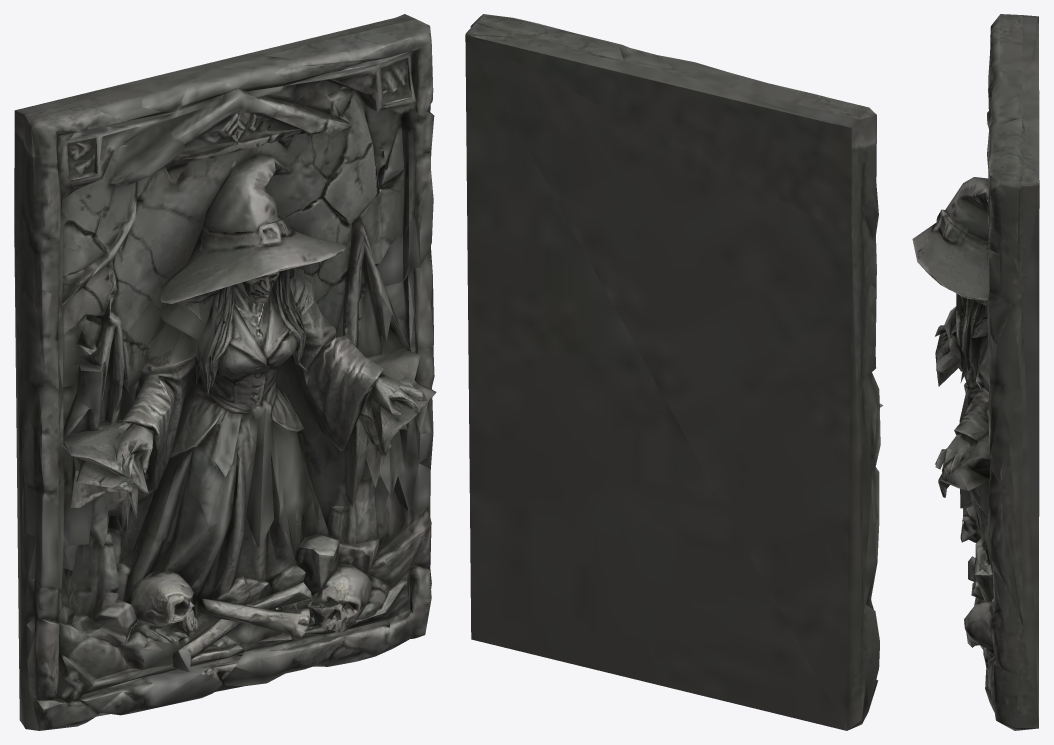
The model's file is obj_deco_evil_witch.glb.
3 views of the same model, side by side, from view 1: azimuth 30°, elevation 25°; view 2: azimuth 150°, elevation 25°; view 3: azimuth 270°, elevation 25° (orthographic). The views are drawn at different scales.
Visible parts, largest first — view 1: Mesh_0; view 2: Mesh_0; view 3: Mesh_0.
Part boxes in pixels (box(x1,y1,x2,y2)): Mesh_0: box(14, 14, 436, 730); Mesh_0: box(465, 14, 883, 730); Mesh_0: box(912, 14, 1039, 730).
Bounding box in the file's own units: 1.31 × 1.9 × 0.3962.
1 material, 1 textured.
